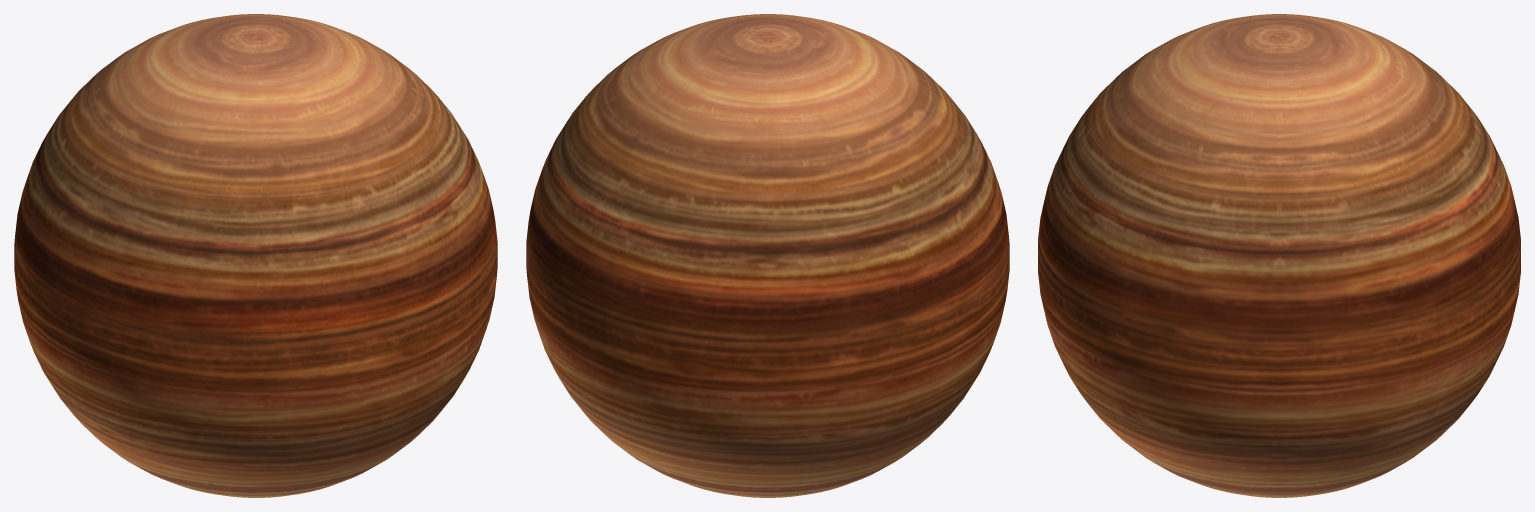
The model's file is Bespin.obj.
3 views of the same model, side by side, from view 1: azimuth 30°, elevation 25°; view 2: azimuth 150°, elevation 25°; view 3: azimuth 270°, elevation 25° (orthographic).
Size of the model in its own units: 283 by 283 by 282.
1 material, 1 textured.
